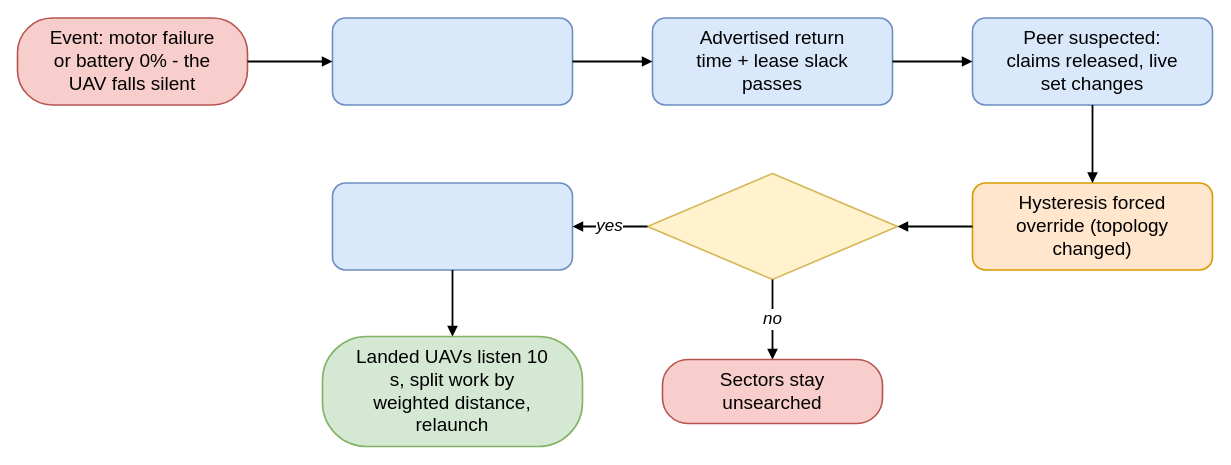
This 1231x465 diagram has some shape labels left out. Here are the shapes that lost their labels. From the top down, the centre of each, then its label:
the point at 452,61: Survivors in flight get no signal; silence is normal
the point at 452,226: Released sectors taken only by UAVs at base
the point at 772,226: Failover enabled?
